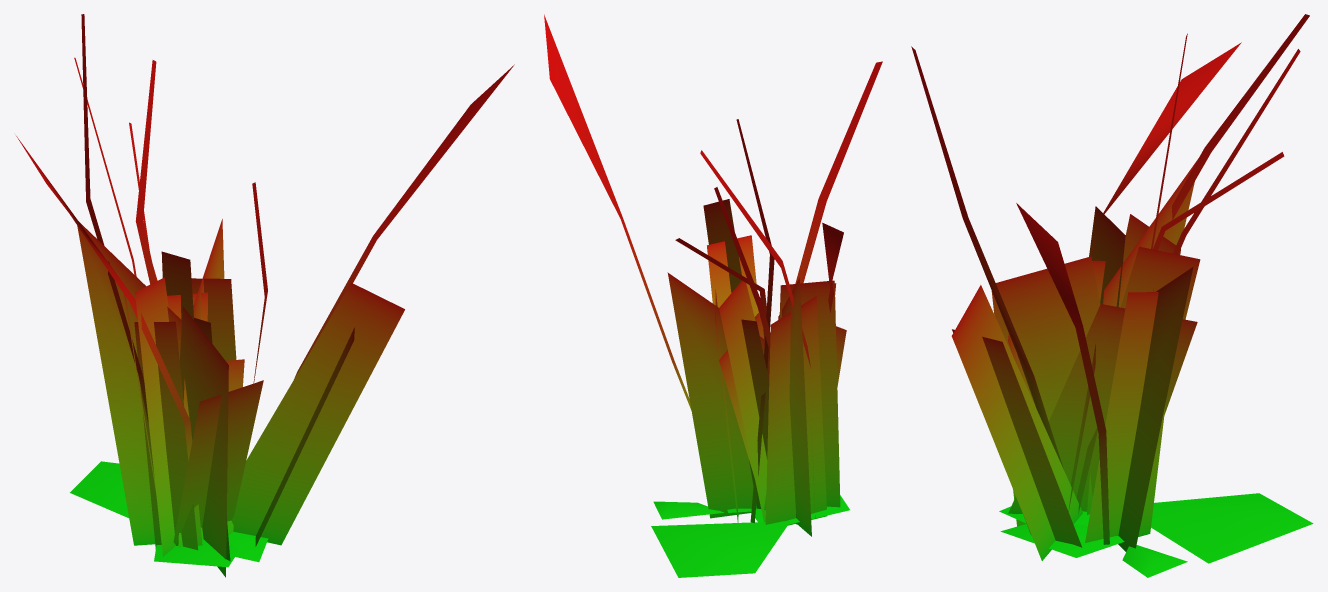
The model's file is Var10_LOD3.fbx.
The picture shows the model from 3 angles, left to right: view 1: azimuth 30°, elevation 25°; view 2: azimuth 150°, elevation 25°; view 3: azimuth 270°, elevation 25°; orthographic projection. The views are drawn at different scales.
Visible parts, largest first — view 1: _4afd_Var10_LOD3; view 2: _4afd_Var10_LOD3; view 3: _4afd_Var10_LOD3.
Boxes of the visible parts, <box> form: _4afd_Var10_LOD3: <box>16,14,514,577</box>; _4afd_Var10_LOD3: <box>544,14,882,577</box>; _4afd_Var10_LOD3: <box>911,14,1313,577</box>.
Size of the model in its own units: 15.43 by 17.44 by 12.35.
